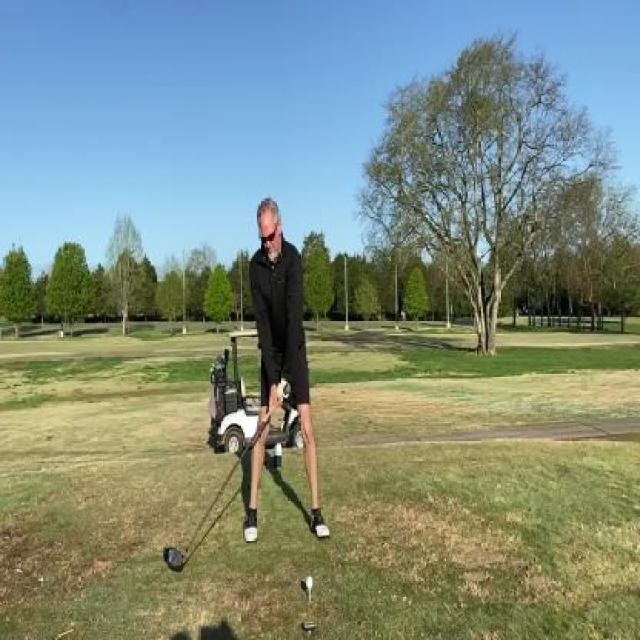club head: (162, 545, 188, 573)
